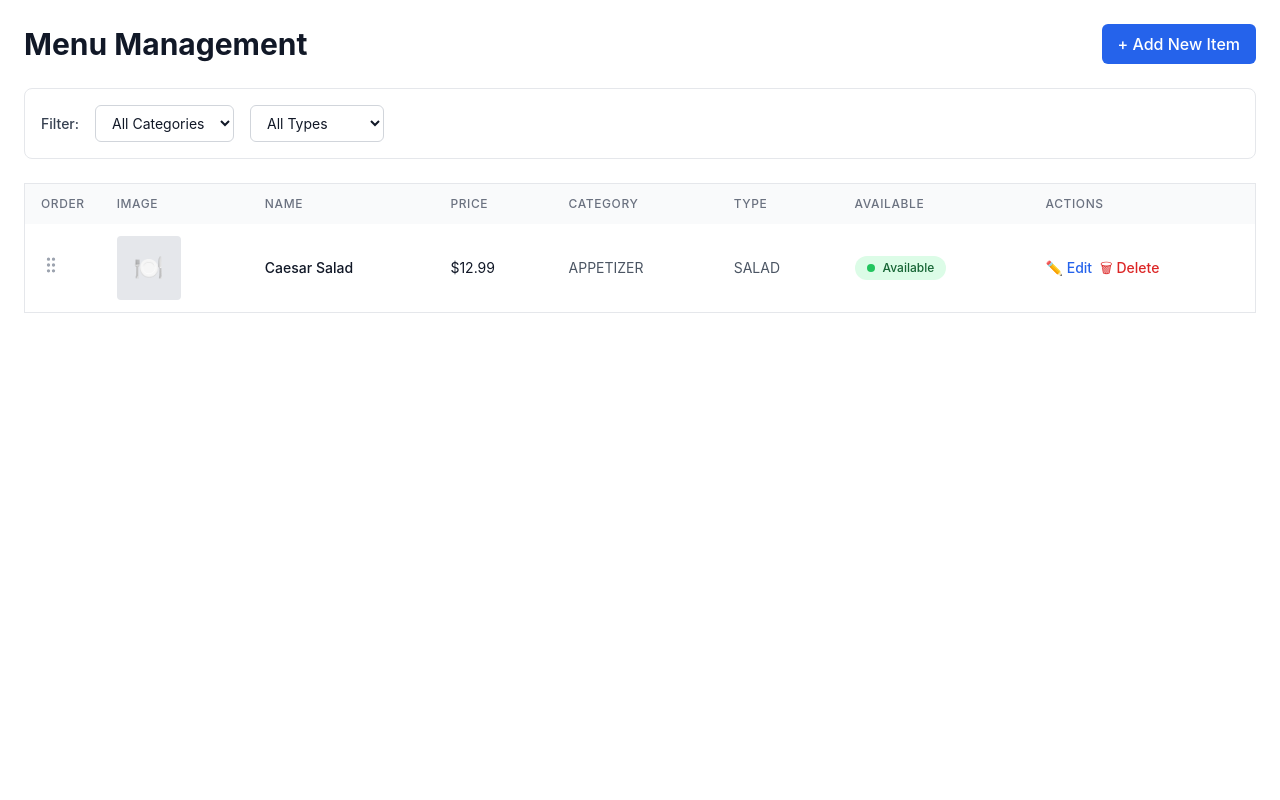
Test: MenuManagement Page › Delete functionality › cancel closes modal without deleting
The width and height of the screenshot is (1280, 800).
// Open modal
Step 1. Click the button with aria-label "delete caesar salad" → coordinates (1130, 268), box x1=1100 y1=258 x2=1159 y2=278
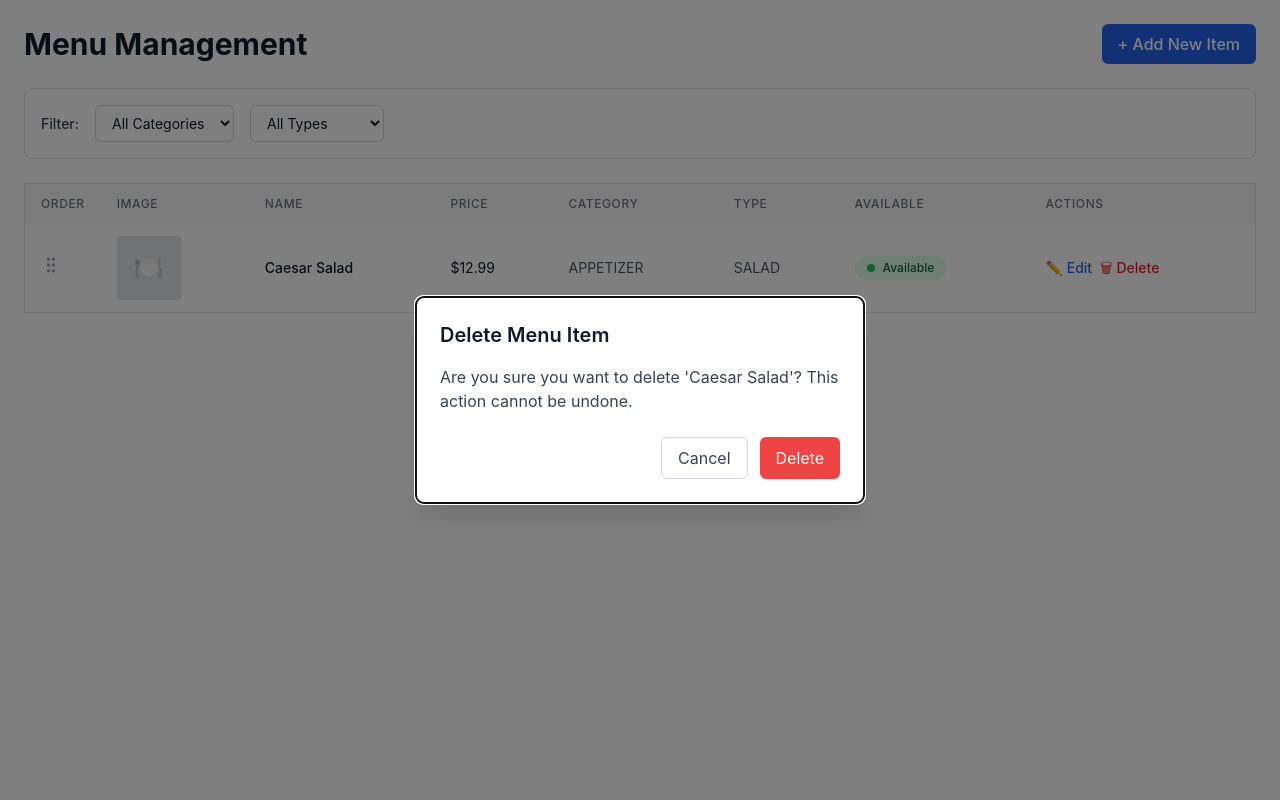
expect the heading "Delete Menu Item" is shown: met, box x1=440 y1=323 x2=609 y2=347
// Click cancel
Step 2. Click the button "Cancel" → coordinates (704, 458), box x1=661 y1=437 x2=748 y2=479
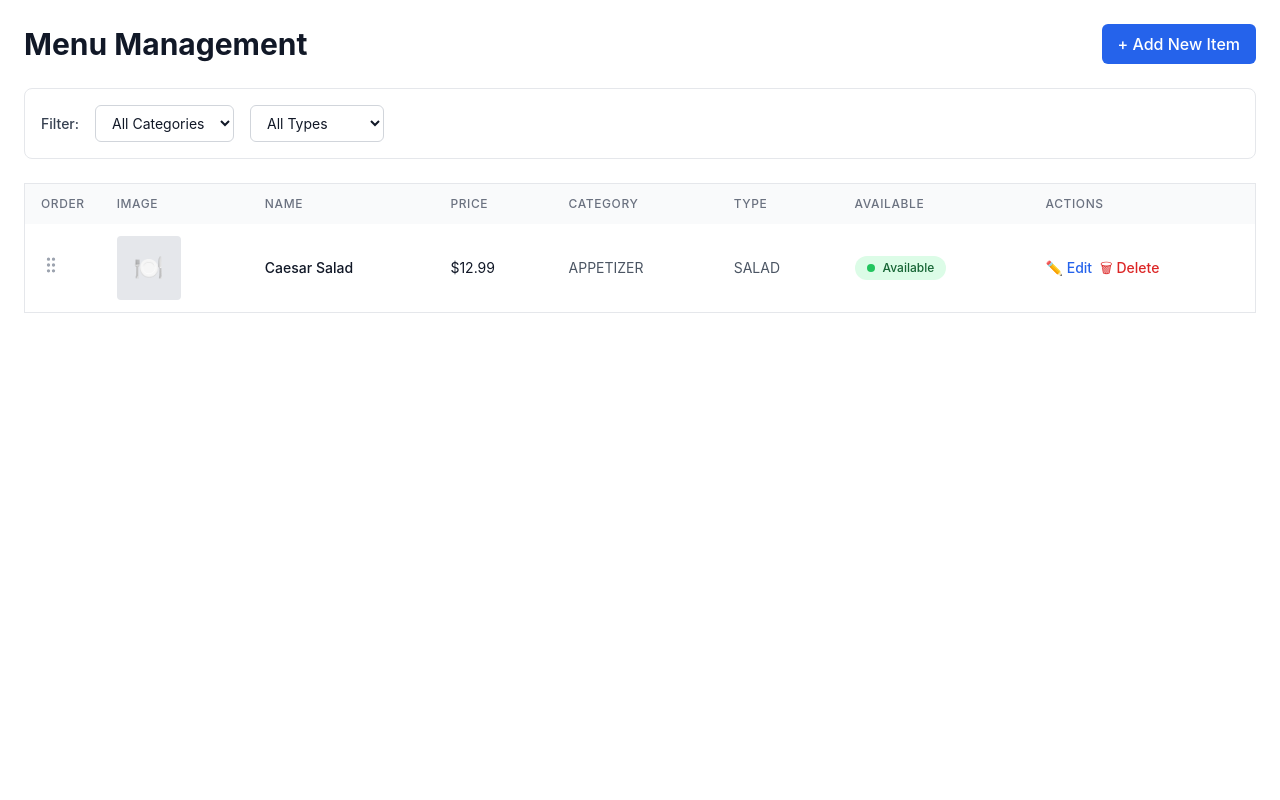
expect the heading "Delete Menu Item" is gone: met
